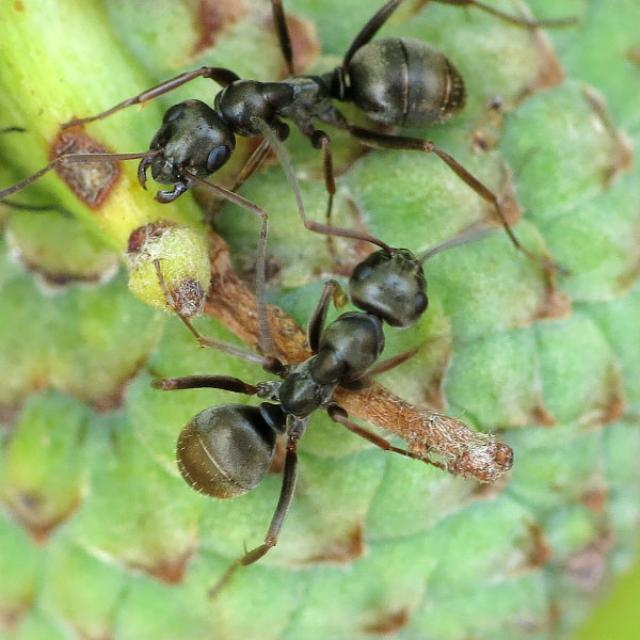Formica: (127, 200, 470, 528), (127, 6, 476, 210)
